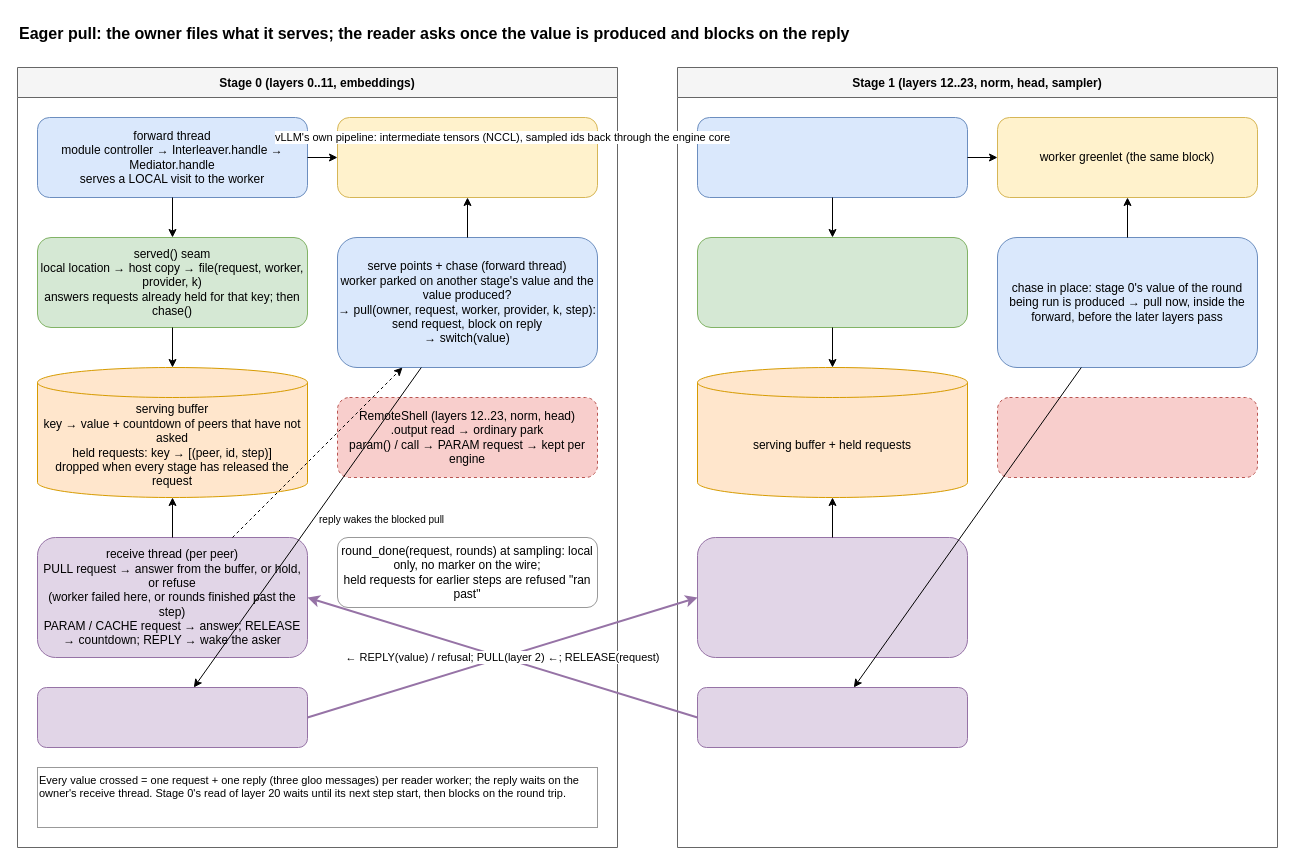
Some shapes in this 1295 by 865 pixel diagram are drawn without their labels. The shapes that lost their labels are listed below. From the top down, each one's centre as x and y in pixels, then its label:
the point at 467,157: worker greenlet (the block) parks on its next location
the point at 832,157: forward thread → serves local visits, logits, samples
the point at 832,282: served() → file(...) → answer held requests; chase()
the point at 1127,437: RemoteShell (layers 0..11, embeddings)
the point at 832,597: receive thread → answer / hold / refuse; replies in
the point at 172,717: sender thread (per peer) requests out, replies out
the point at 832,717: sender thread
